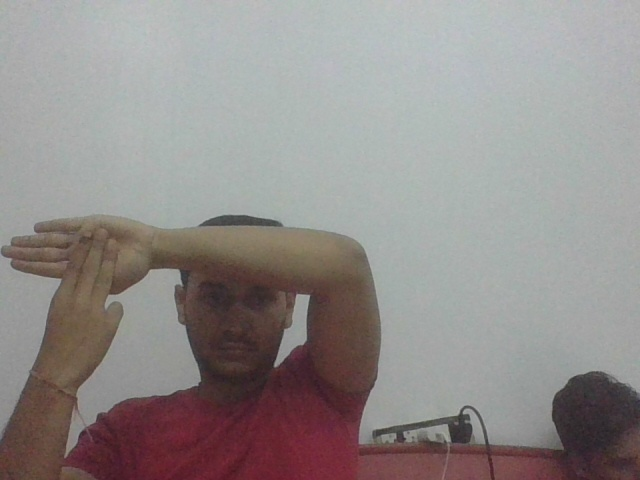M: (2, 208, 152, 374)
